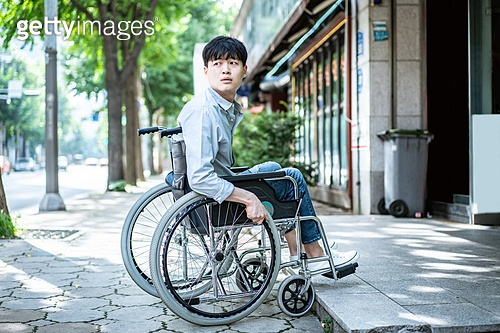wheelchair: (120, 35, 360, 324)
